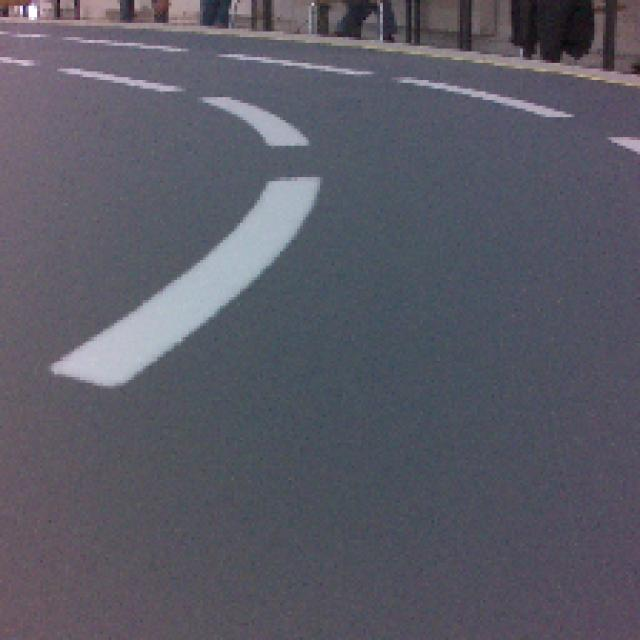Road: (0, 322, 640, 640)
